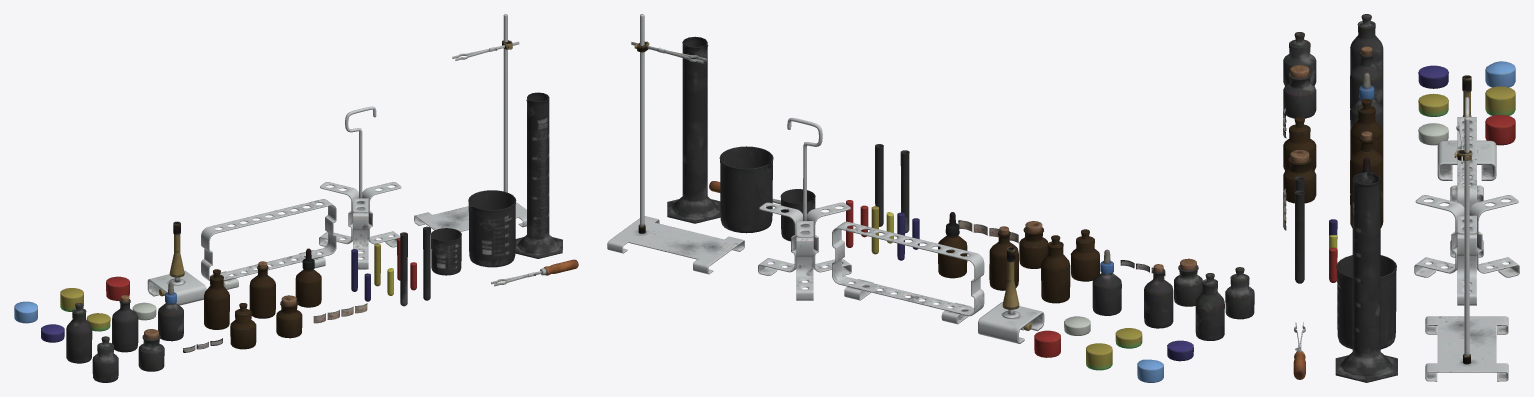
File: chemistry_set.glb
3 renders of one model, left to right at view 1: azimuth 30°, elevation 25°; view 2: azimuth 150°, elevation 25°; view 3: azimuth 270°, elevation 25°, orthographic. The views are drawn at different scales.
Visible parts, largest first — view 1: chemistry_set_beaker_large, chemistry_set_test_tube_content_b; view 2: chemistry_set_beaker_large, chemistry_set_test_tube_content_b; view 3: chemistry_set_beaker_large, chemistry_set_test_tube_content_b.
Boxes of the visible parts, <box> form: chemistry_set_beaker_large: <box>41,92,562,382</box>; chemistry_set_test_tube_content_b: <box>14,14,578,339</box>; chemistry_set_beaker_large: <box>667,36,1254,370</box>; chemistry_set_test_tube_content_b: <box>607,14,1196,382</box>; chemistry_set_beaker_large: <box>1283,14,1515,382</box>; chemistry_set_test_tube_content_b: <box>1290,46,1519,381</box>.
Bounding box in the file's own units: 1.08 × 0.429 × 0.3539.
Materials: 2 (2 with a texture image).
